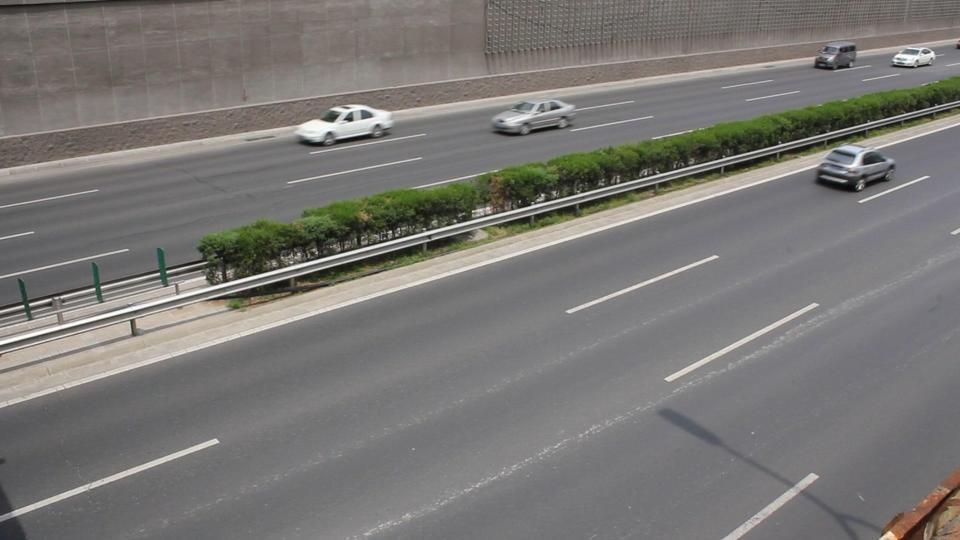car: (296, 104, 393, 147), (814, 143, 896, 191), (491, 99, 577, 137), (813, 42, 857, 70), (891, 46, 935, 67)
